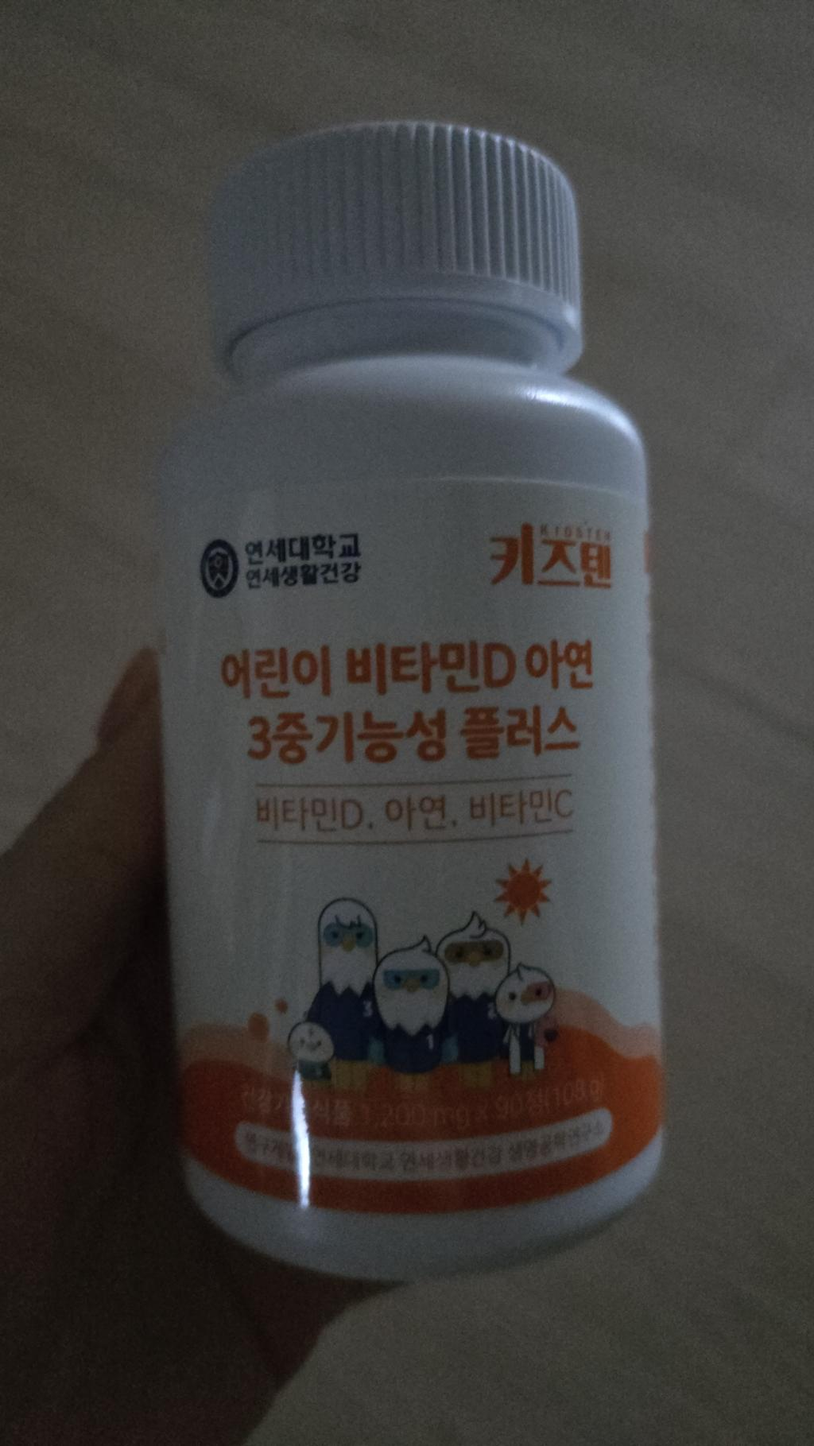supplement_label: (157, 481, 676, 1223)
